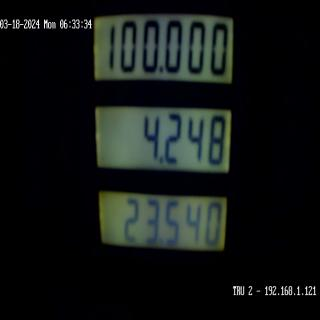screen: (91, 1, 242, 289)
